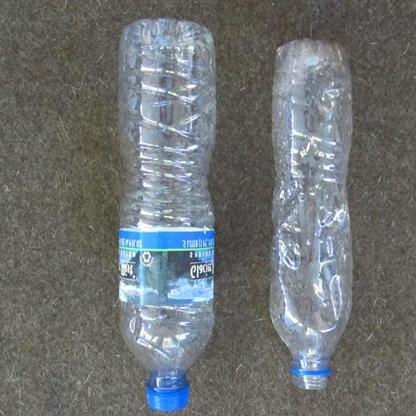plastic bottle: (118, 19, 214, 409), (271, 36, 350, 390)
